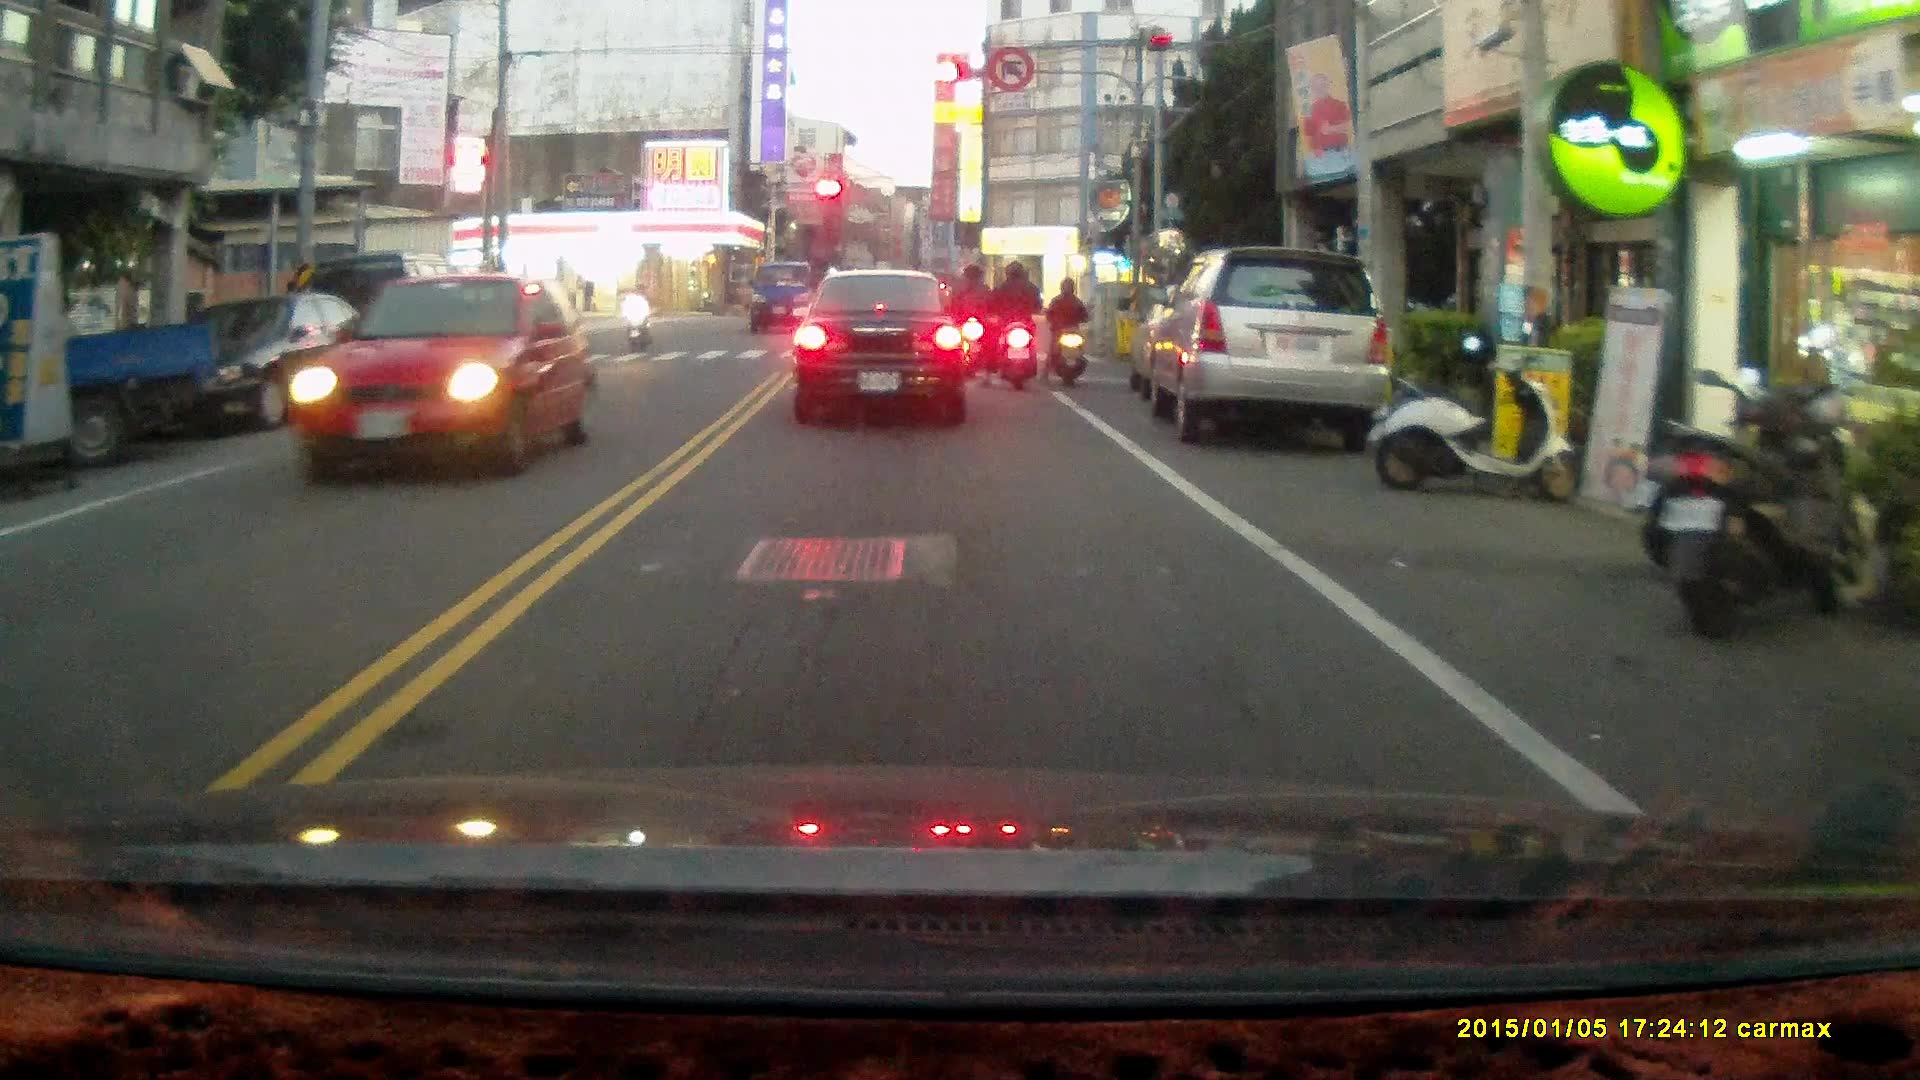rider: (982, 261, 1043, 395), (1040, 275, 1091, 390), (943, 265, 988, 381), (625, 279, 655, 353)
vehicle: (284, 273, 602, 480), (1139, 246, 1399, 449), (128, 294, 385, 431), (792, 268, 970, 428)
